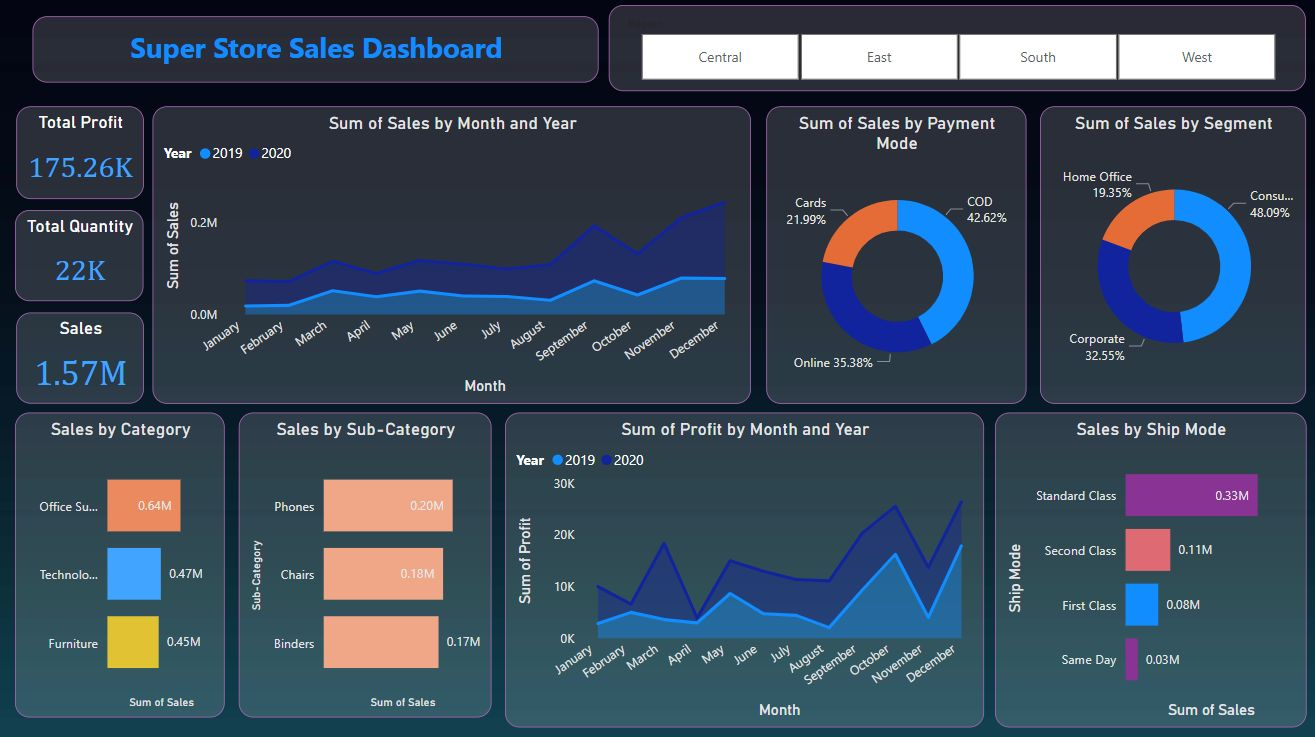

The page's visual inventory and layout, read from the dashboard file:
{"tool":"powerbi","page":{"name":"Page 1","canvas":[1280,720],"ordinal":0},"visuals":[{"type":"clusteredBarChart","title":"Sales by Category","fields":{"Category":["Sheet1.Category"],"Y":["Sum(Sheet1.Sales)"]},"box":[19.3,403,202.7,294.4],"z":0},{"type":"clusteredBarChart","title":"Sales by Sub-Category","fields":{"Category":["Sheet1.Sub-Category"],"Y":["Sum(Sheet1.Sales)"]},"box":[235.3,403,243.7,294.4],"z":1000},{"type":"clusteredBarChart","title":"Sales by Ship Mode","fields":{"Category":["Sheet1.Ship Mode","Sheet1.Sub-Category"],"Y":["Sum(Sheet1.Sales)"]},"box":[965.2,403,300.4,304],"z":2000},{"type":"stackedAreaChart","fields":{"Category":["Sheet1.Order Date.Variation.Date Hierarchy.Month","Sheet1.Order Date.Variation.Date Hierarchy.Day"],"Y":["Sum(Sheet1.Sales)"],"Series":["Sheet1.Order Date.Variation.Date Hierarchy.Year"]},"box":[152,107.4,577.9,287.1],"z":3000},{"type":"stackedAreaChart","fields":{"Category":["Sheet1.Order Date.Variation.Date Hierarchy.Month","Sheet1.Order Date.Variation.Date Hierarchy.Day"],"Series":["Sheet1.Order Date.Variation.Date Hierarchy.Year"],"Y":["Sum(Sheet1.Profit)"]},"box":[492.2,403,462.1,304],"z":4000},{"type":"donutChart","fields":{"Category":["Sheet1.Segment"],"Y":["Sum(Sheet1.Sales)"]},"box":[1008.6,107.4,257,287.1],"z":5000},{"type":"donutChart","fields":{"Category":["Sheet1.Payment Mode"],"Y":["Sum(Sheet1.Sales)"]},"box":[744.4,107.4,250.9,287.1],"z":6000},{"type":"slicer","fields":{"Values":["Sheet1.Region"]},"box":[592.4,9.7,673.2,83.2],"z":7000},{"type":"textbox","box":[36.2,20.5,546.5,63.9],"z":8000},{"type":"card","title":"Sales","fields":{"Values":["Sum(Sheet1.Sales)"]},"box":[20.5,306.4,123.1,88.1],"z":9000},{"type":"card","title":"Total Quantity","fields":{"Values":["Sum(Sheet1.Quantity)"]},"box":[19.3,207.5,124.3,88.1],"z":10000},{"type":"card","title":"Total Profit","fields":{"Values":["Sum(Sheet1.Profit)"]},"box":[20.5,107.4,123.1,89.3],"z":10001}]}

Visuals, with their boxes in screenshot pixels (x1, y1, x2, y2), scaled from the page's 1280x720 canvas onto the 1315x737 screenshot:
"Sales by Category" clusteredBarChart: 20, 413, 228, 714
"Sales by Sub-Category" clusteredBarChart: 242, 413, 492, 714
"Sales by Ship Mode" clusteredBarChart: 992, 413, 1300, 724
stackedAreaChart - Sheet1.Order Date.Variation.Date Hierarchy.Month x Sheet1.Order Date.Variation.Date Hierarchy.Day: 156, 110, 750, 404
stackedAreaChart - Sheet1.Order Date.Variation.Date Hierarchy.Month x Sheet1.Order Date.Variation.Date Hierarchy.Day: 506, 413, 980, 724
donutChart - Sheet1.Segment x Sum(Sheet1.Sales): 1036, 110, 1300, 404
donutChart - Sheet1.Payment Mode x Sum(Sheet1.Sales): 765, 110, 1023, 404
slicer - Sheet1.Region: 609, 10, 1300, 95
textbox: 37, 21, 599, 86
"Sales" card: 21, 314, 148, 404
"Total Quantity" card: 20, 212, 148, 303
"Total Profit" card: 21, 110, 148, 201
